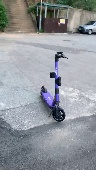beam: (38, 49, 72, 123)
